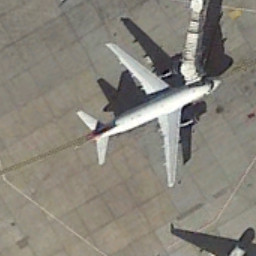Airplane: (64, 38, 233, 192)
